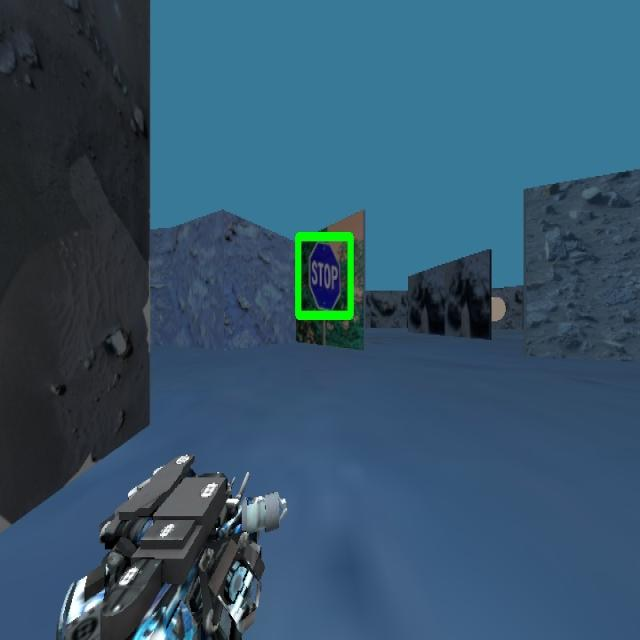Circle: (472, 275, 518, 334)
Diamon: (293, 230, 355, 322)
